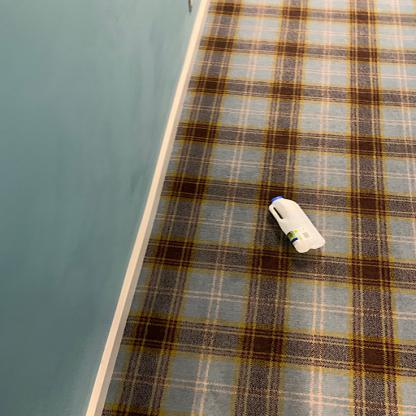trash: (268, 194, 328, 258)
